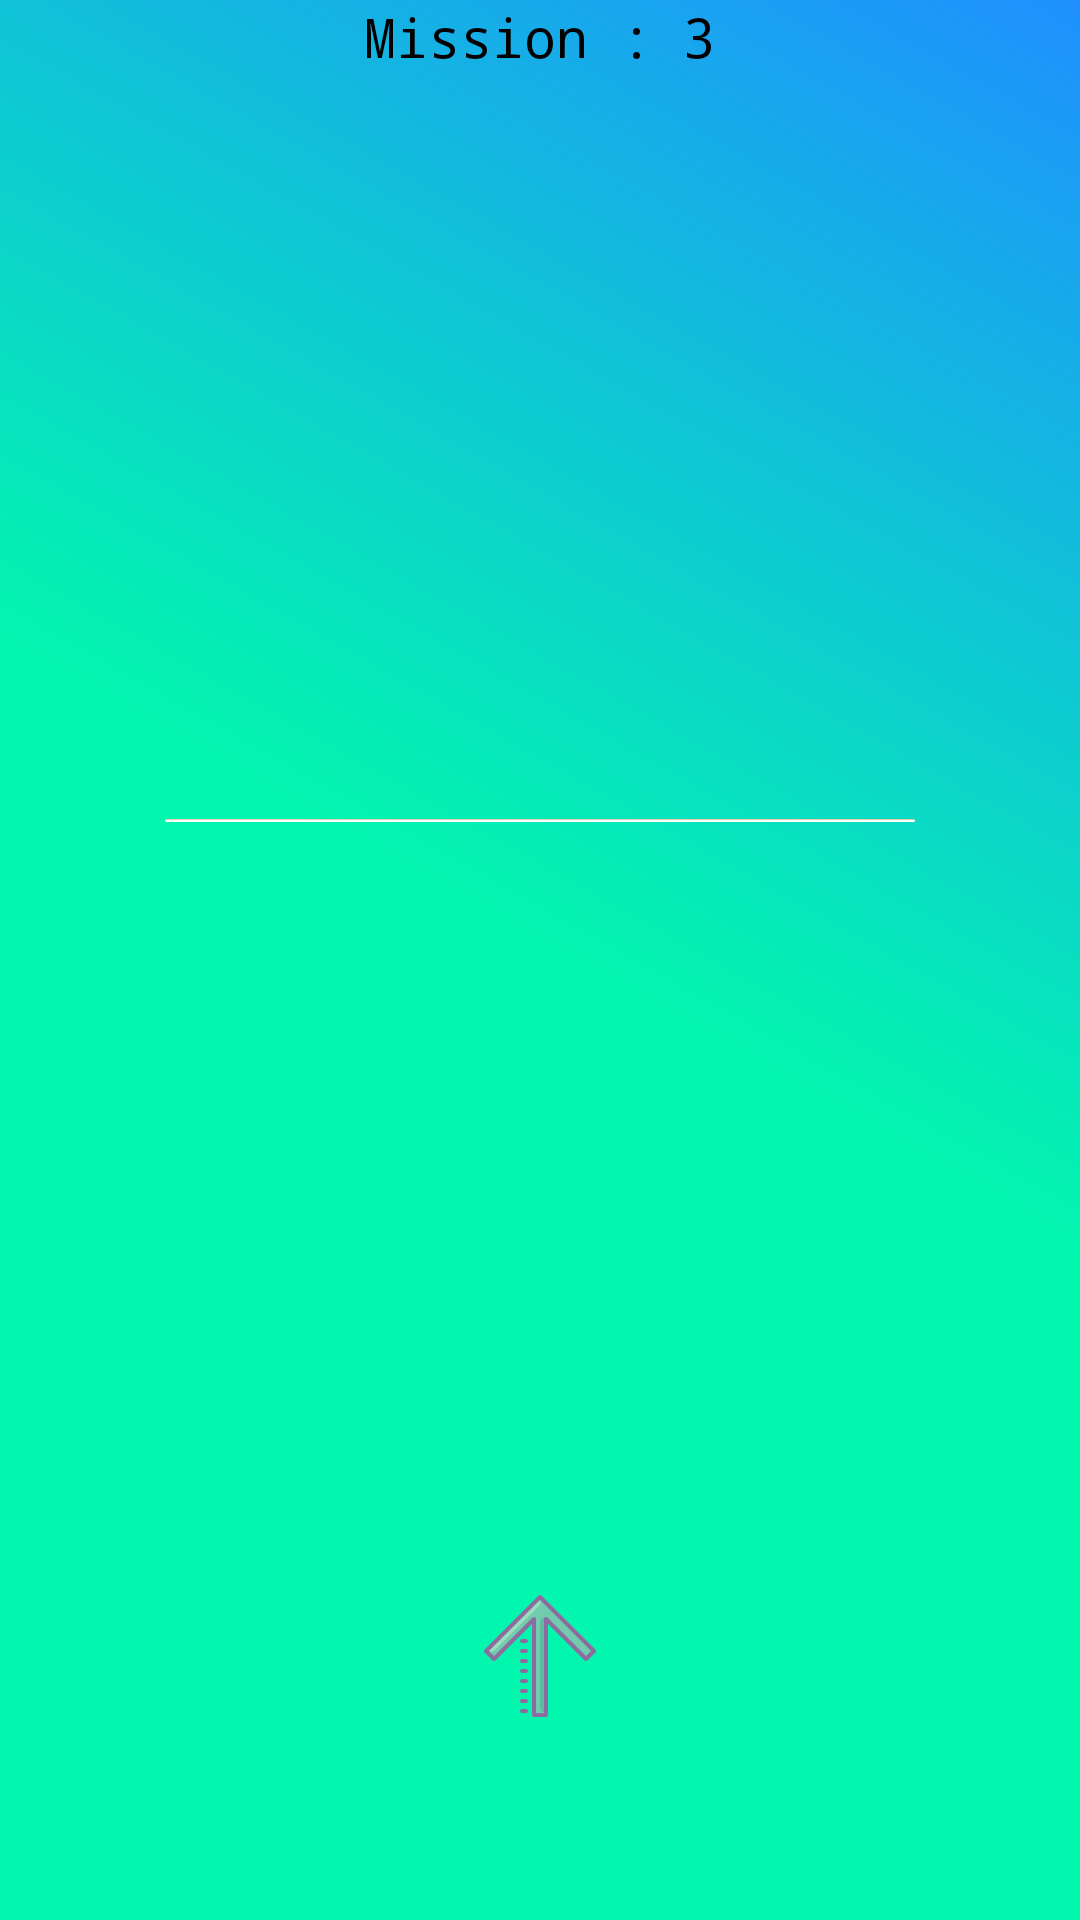

Point at icon controls on the screen. Image size 1080w x 1920h, points as (x,y).
high: (540,1656)
